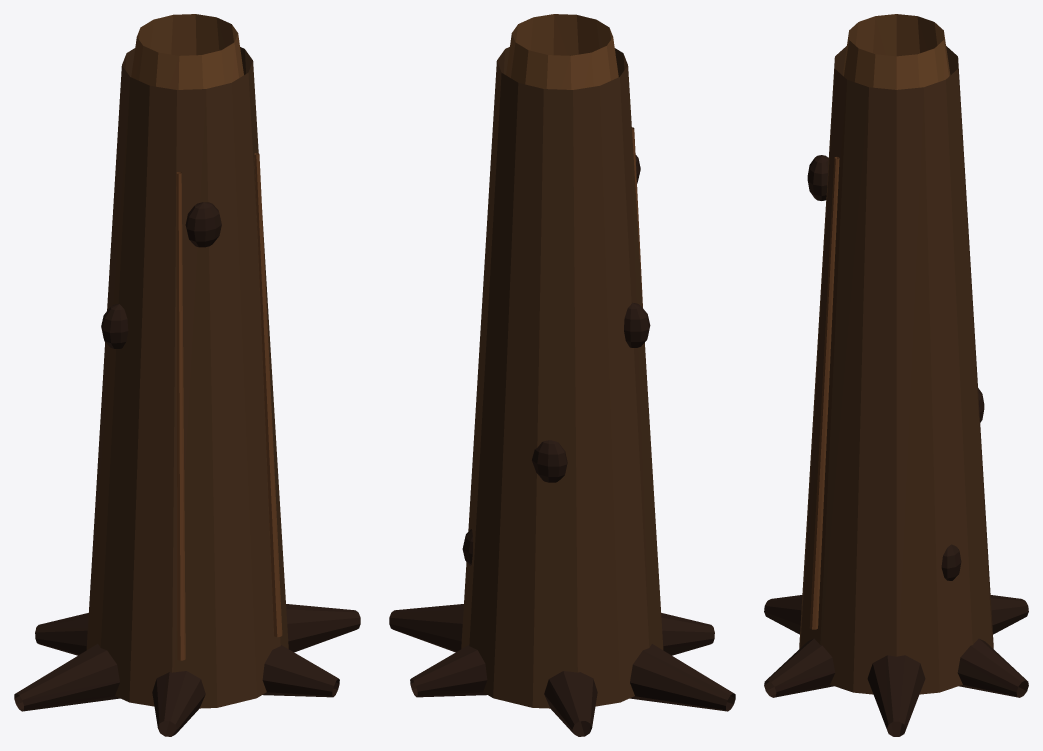
File: MagicForestTrunk.obj
3 views of the same model, side by side, from view 1: azimuth 30°, elevation 25°; view 2: azimuth 150°, elevation 25°; view 3: azimuth 270°, elevation 25° (orthographic). The views are drawn at different scales.
Visible parts, largest first — view 1: TrunkCore, TrunkInner, Root3, BarkRidge0, BarkRidge4, Root5, Root4, Root0, Root2, Knot3, Knot2; view 2: TrunkCore, TrunkInner, Root3, Root1, Root2, Root0, Root4, Knot1, Knot2; view 3: TrunkCore, TrunkInner, BarkRidge4, Root0, Root1, Root5, Root2, Root4, Knot3, Knot0.
Part boxes in pixels (bbox=[...]): TrunkCore: bbox=[86, 47, 288, 708]; TrunkInner: bbox=[131, 14, 243, 89]; Root3: bbox=[14, 644, 120, 711]; BarkRidge0: bbox=[176, 172, 185, 660]; BarkRidge4: bbox=[254, 153, 282, 637]; Root5: bbox=[262, 645, 339, 697]; Root4: bbox=[152, 671, 205, 736]; Root0: bbox=[286, 604, 360, 652]; Root2: bbox=[35, 613, 88, 655]; Knot3: bbox=[185, 202, 221, 247]; Knot2: bbox=[101, 304, 128, 348]; TrunkCore: bbox=[461, 47, 663, 708]; TrunkInner: bbox=[506, 14, 618, 89]; Root3: bbox=[629, 644, 735, 711]; Root1: bbox=[410, 645, 487, 697]; Root2: bbox=[544, 671, 597, 736]; Root0: bbox=[389, 604, 463, 652]; Root4: bbox=[661, 613, 714, 655]; Knot1: bbox=[532, 440, 567, 482]; Knot2: bbox=[624, 302, 650, 347]; TrunkCore: bbox=[799, 46, 993, 694]; TrunkInner: bbox=[842, 14, 950, 89]; BarkRidge4: bbox=[809, 157, 839, 629]; Root0: bbox=[867, 655, 925, 736]; Root1: bbox=[957, 638, 1028, 697]; Root5: bbox=[764, 638, 835, 697]; Root2: bbox=[990, 595, 1028, 634]; Root4: bbox=[764, 595, 802, 634]; Knot3: bbox=[807, 155, 828, 200]; Knot0: bbox=[941, 544, 961, 580].
Bounding box in the file's own units: 3.29 × 5.97 × 2.27.
